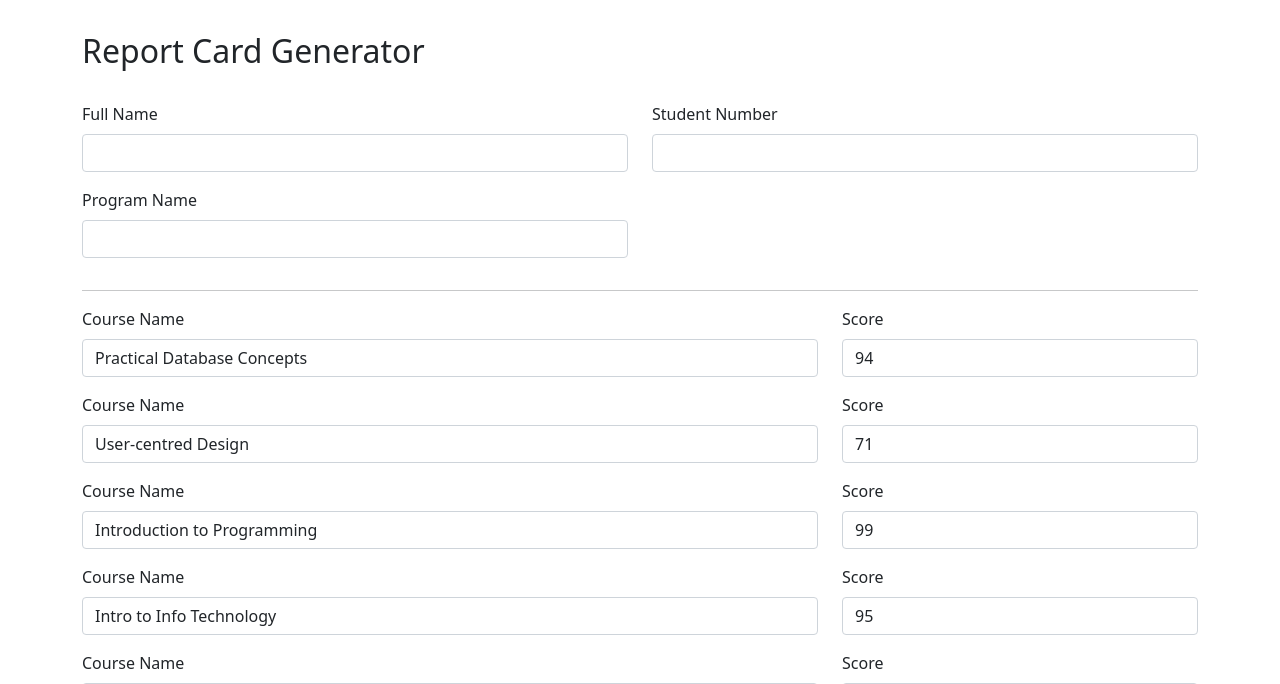
Test: fill the form and get the GPA
In the field named "full_name": [355, 153] box [82, 134, 628, 172], type "Areeb Majeed"
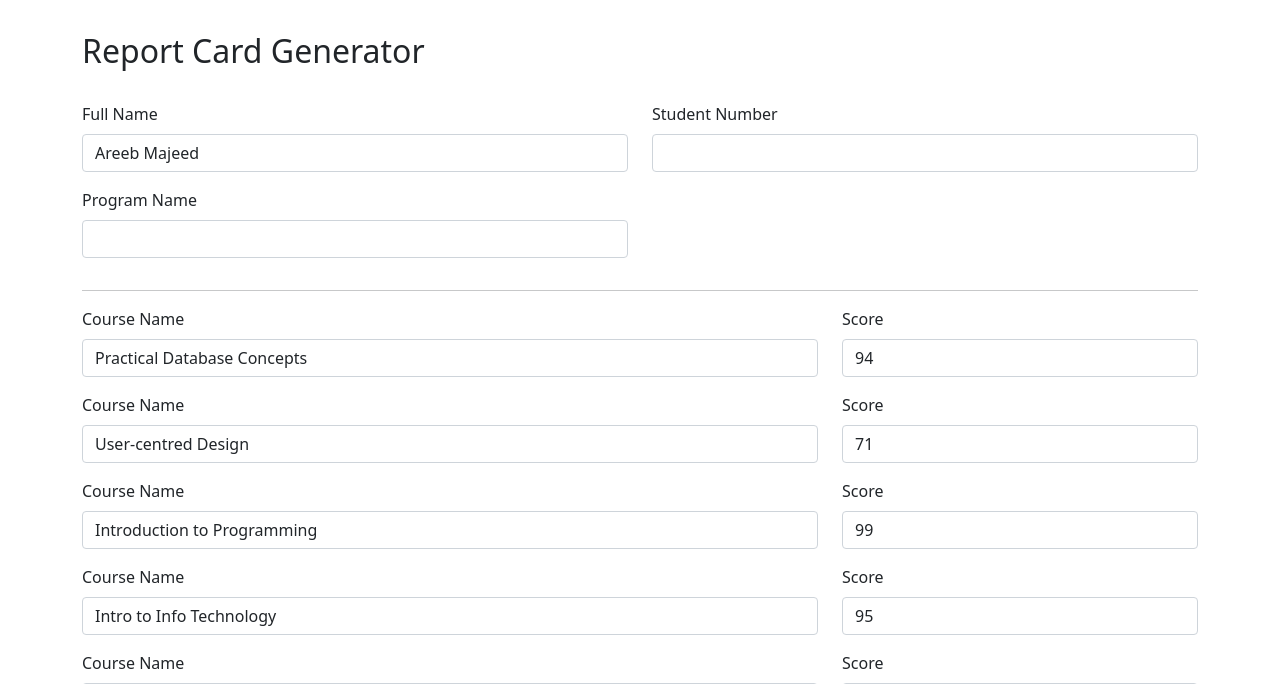
In the field named "student_number": [925, 153] box [652, 134, 1198, 172], type "3827035"
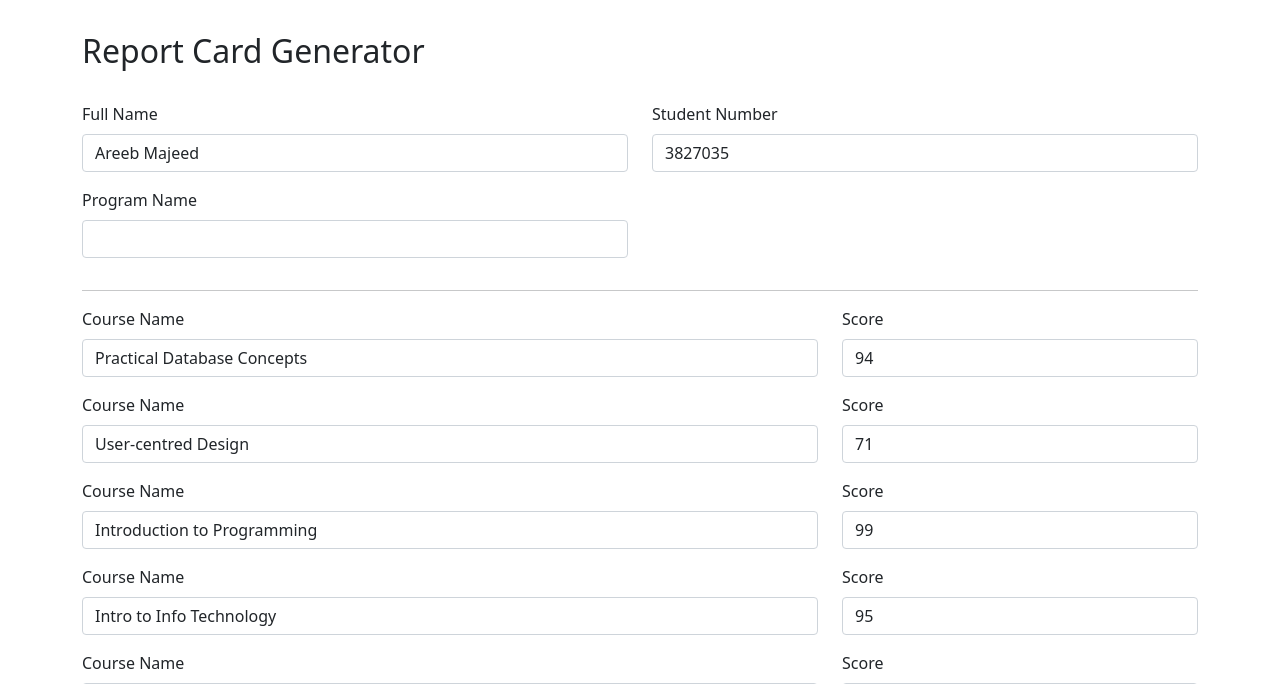
In the field named "program_name": [355, 239] box [82, 220, 628, 258], type "Bachelor of Information Technology"
(page scrolled)
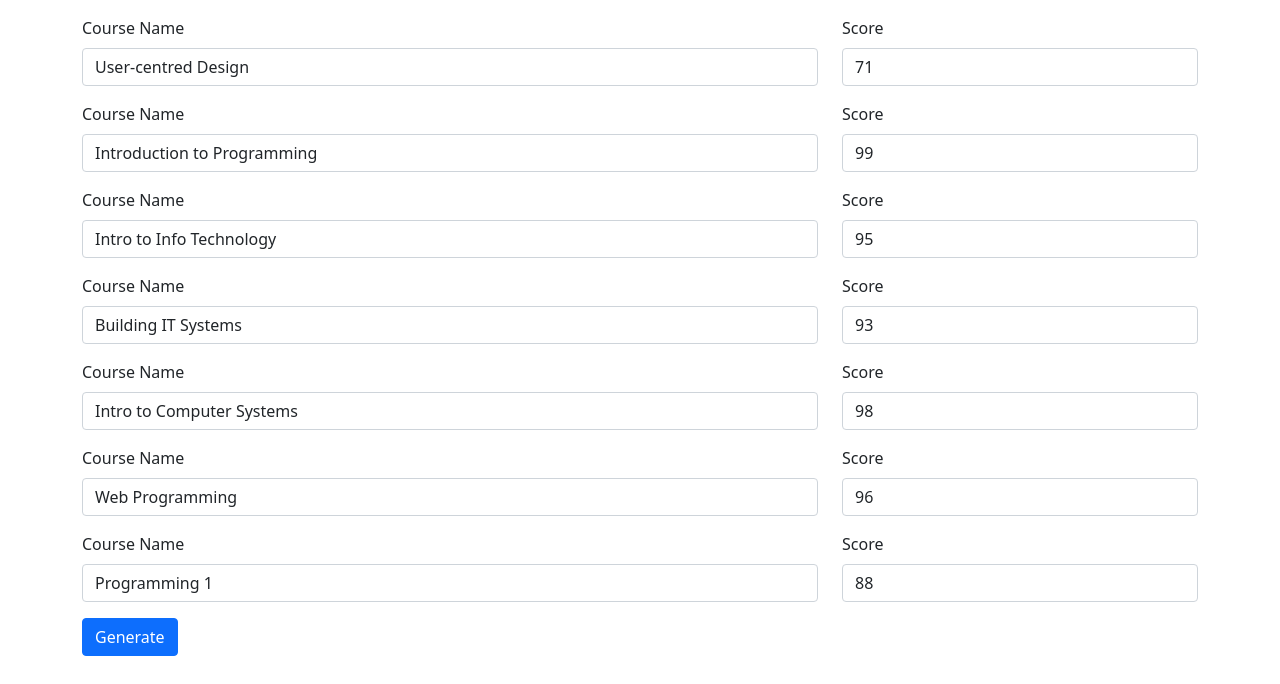
Click the button "Generate": [130, 637] box [82, 618, 178, 656]
(page scrolled)
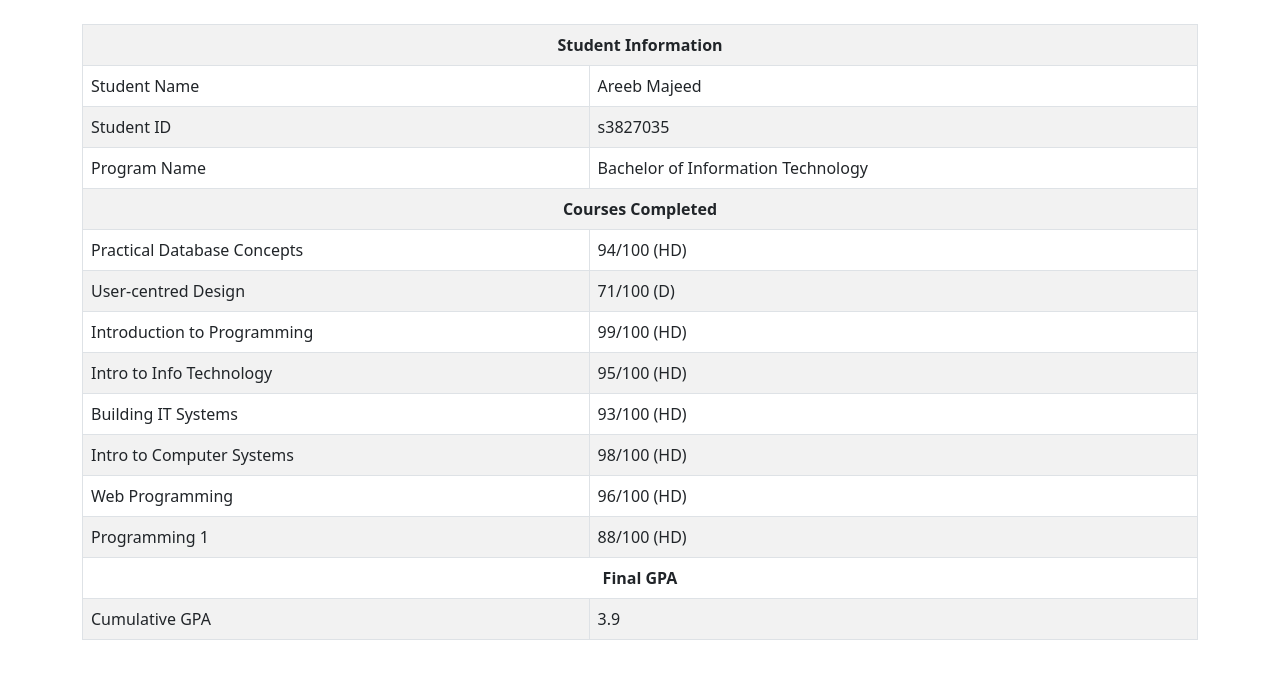
Result: the text "3.9" is shown at [589, 599, 1198, 640]
